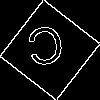C: (25, 25, 67, 76)
